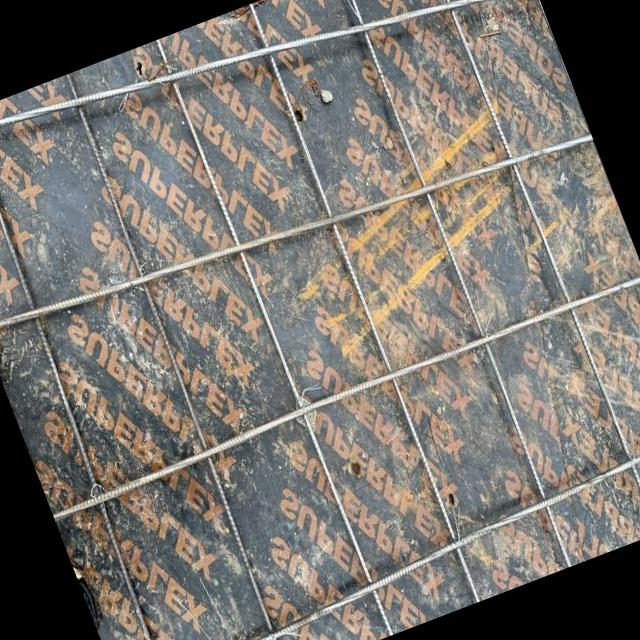ribbed bar: (0, 95, 594, 371), (47, 270, 640, 525), (154, 37, 394, 638), (245, 4, 483, 604), (54, 74, 298, 640), (338, 0, 574, 568), (419, 0, 640, 537), (0, 0, 537, 221), (106, 423, 640, 640), (0, 112, 198, 640)
